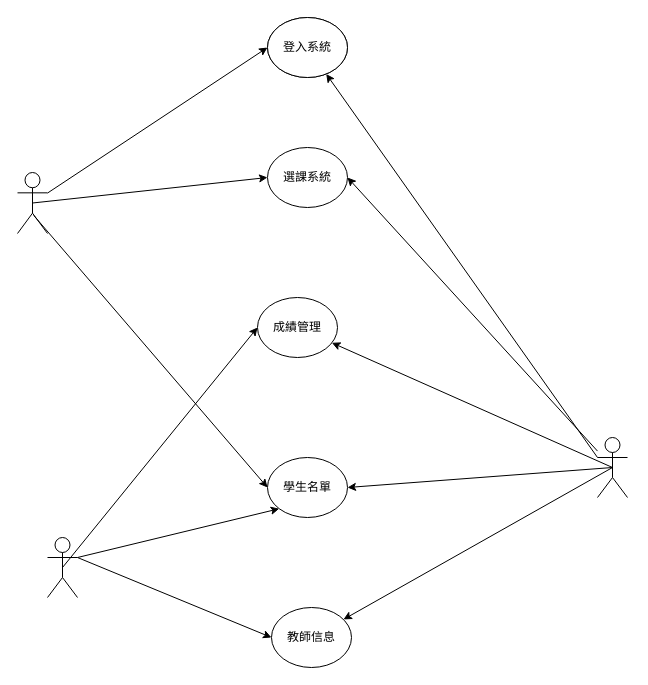
Image size: 648x685. Some labels were removed from this diagram. The centre of each missing label's shape, as x and y in pixels:
學生: point 32,203
教師: point 62,567
教職員: point 612,467
